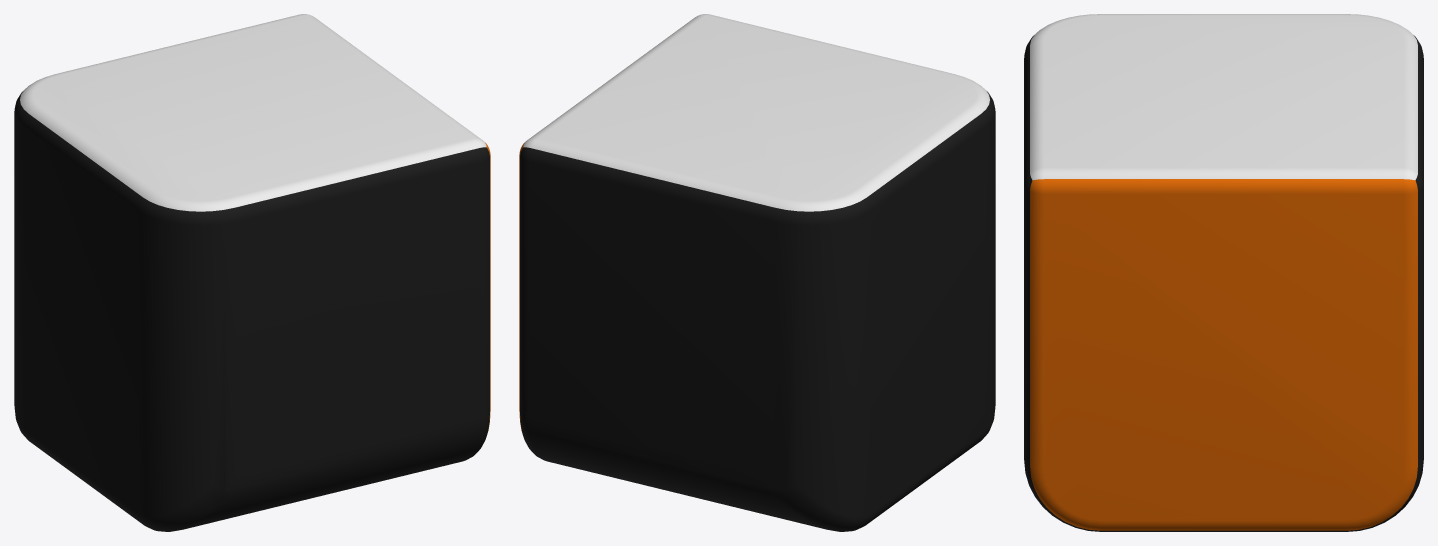
File: wo_edge.glb
3 renders of one model, left to right at view 1: azimuth 30°, elevation 25°; view 2: azimuth 150°, elevation 25°; view 3: azimuth 270°, elevation 25°, orthographic. The views are drawn at different scales.
Visible parts, largest first — view 1: Cube; view 2: Cube; view 3: Cube.
Boxes of the visible parts, x1,y1,x2,y2 form: Cube: [14, 14, 490, 531]; Cube: [519, 14, 995, 531]; Cube: [1024, 14, 1423, 531].
Bounding box in the file's own units: 2 × 2 × 2.
